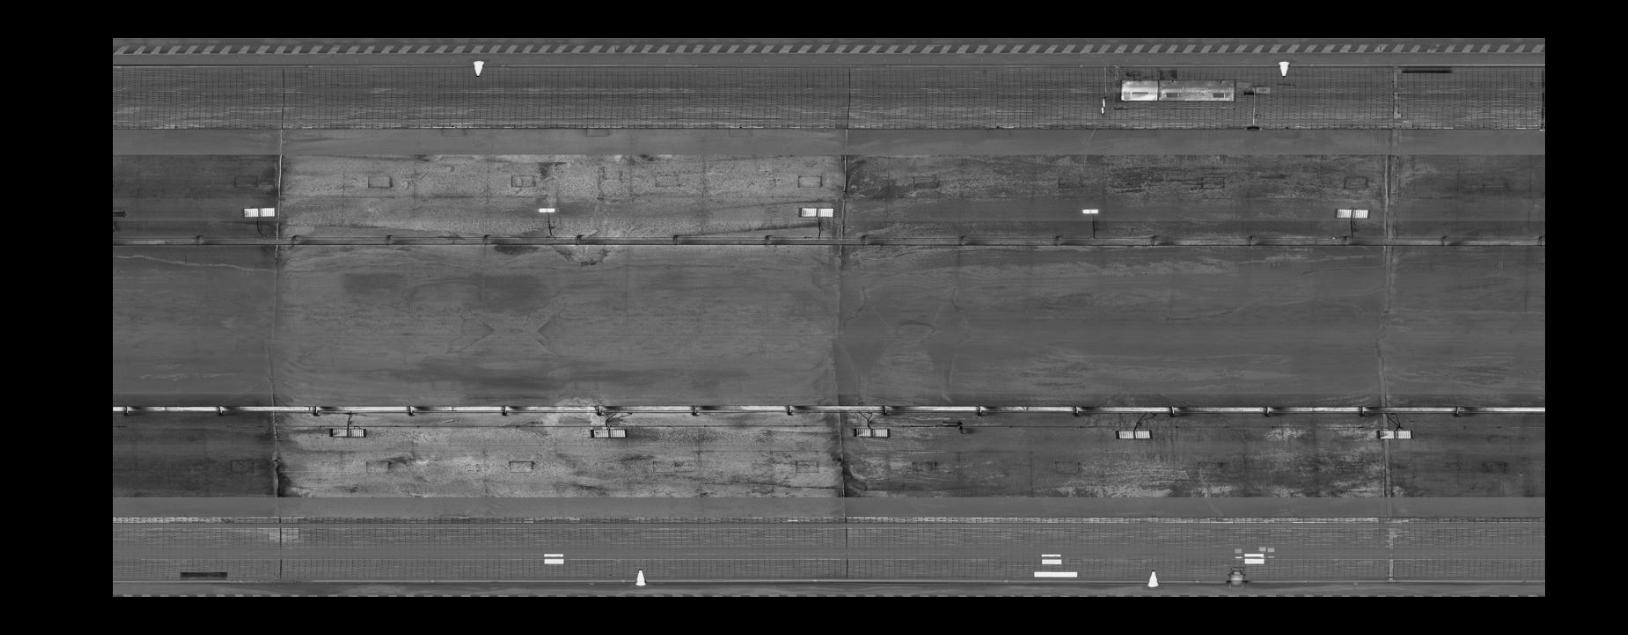light: (324, 424, 369, 441), (848, 424, 893, 441), (584, 426, 629, 442), (1111, 427, 1156, 443), (1330, 206, 1372, 221), (237, 203, 277, 218), (1373, 427, 1415, 441), (797, 204, 836, 219), (533, 206, 561, 215), (1077, 208, 1105, 215)
